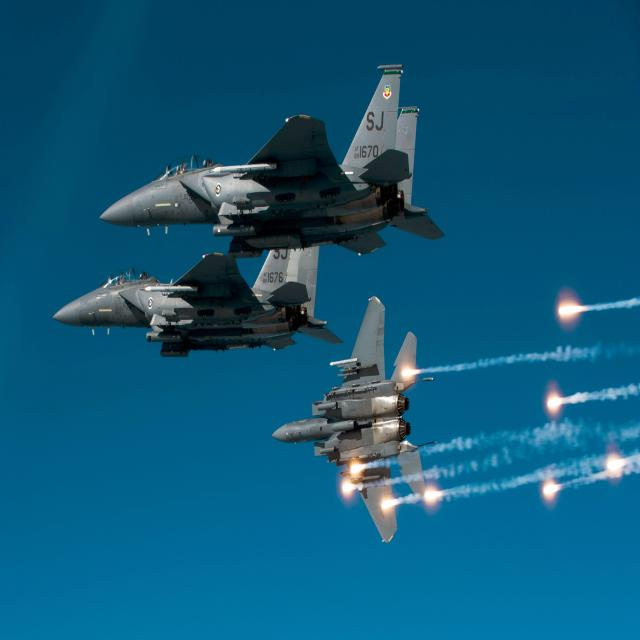MIL_Plane: (96, 64, 446, 260), (270, 294, 437, 545), (52, 244, 344, 358)
